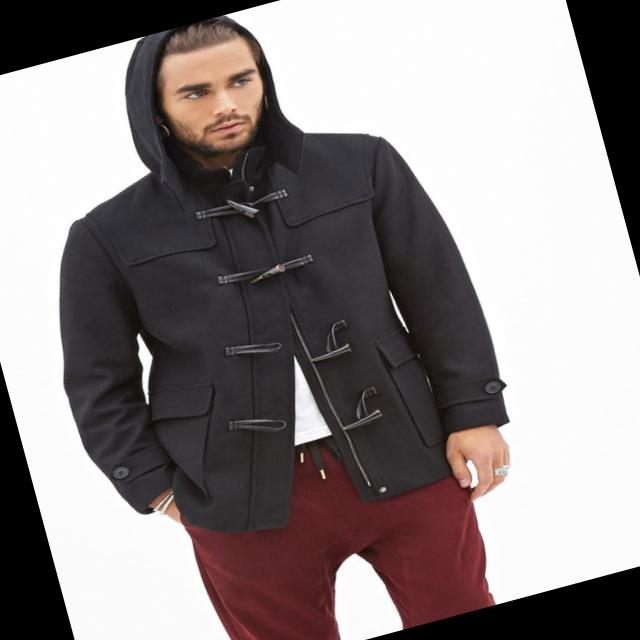Jacket: (12, 92, 530, 550)
